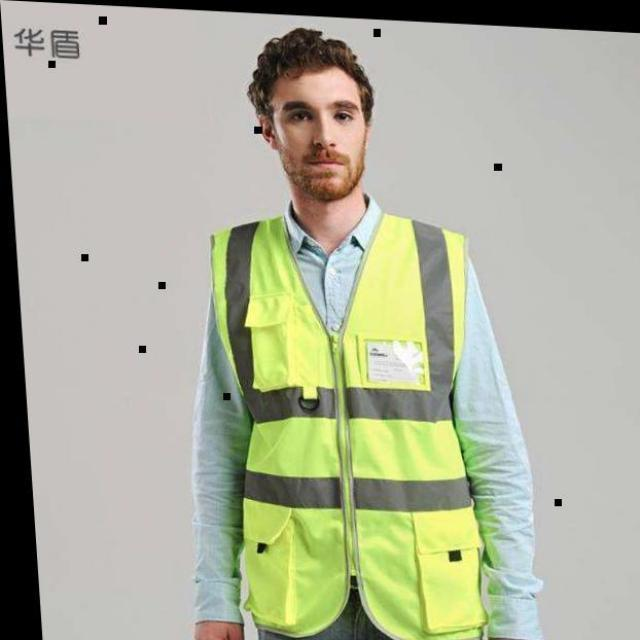safety_helmet: (215, 222, 474, 635)
